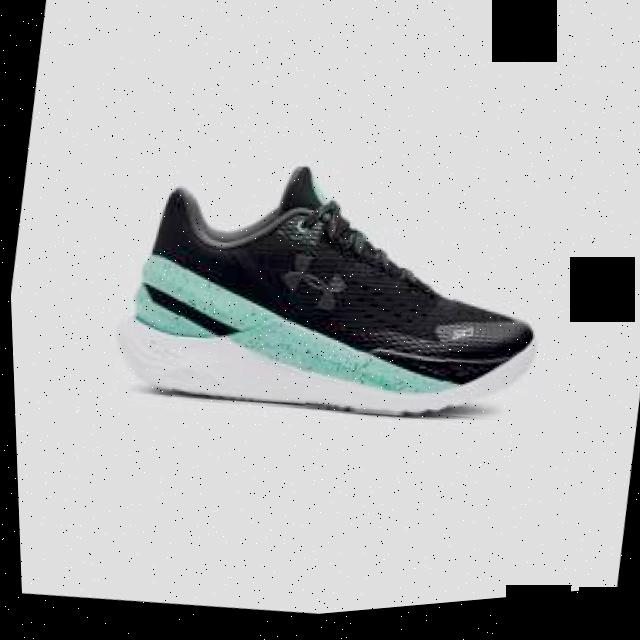shoe: (93, 127, 562, 463)
